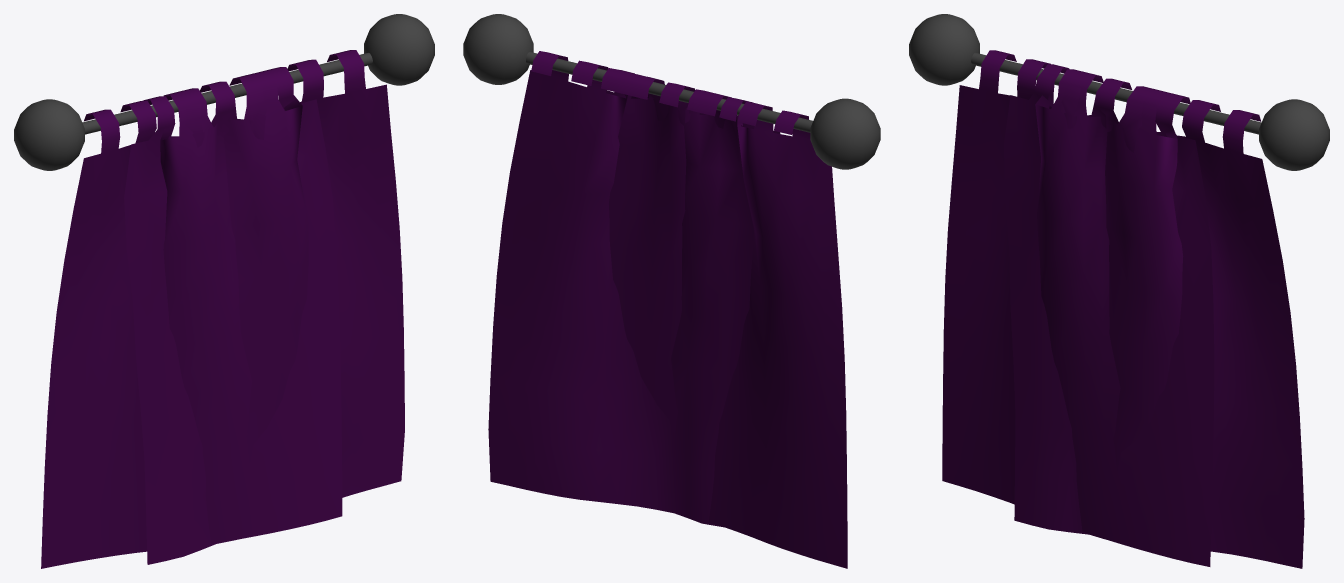
File: drapes.FBX
The picture shows the model from 3 angles, left to right: view 1: azimuth 30°, elevation 25°; view 2: azimuth 150°, elevation 25°; view 3: azimuth 330°, elevation 25°; orthographic projection.
Parts seen in each view (by area): view 1: Plane002; view 2: Plane002; view 3: Plane002.
Part boxes in pixels (x1=…): Plane002: x1=14, y1=14, x2=434, y2=568; Plane002: x1=463, y1=14, x2=880, y2=568; Plane002: x1=909, y1=14, x2=1329, y2=568.
Size of the model in its own units: 1.65 by 1.81 by 0.2465.
